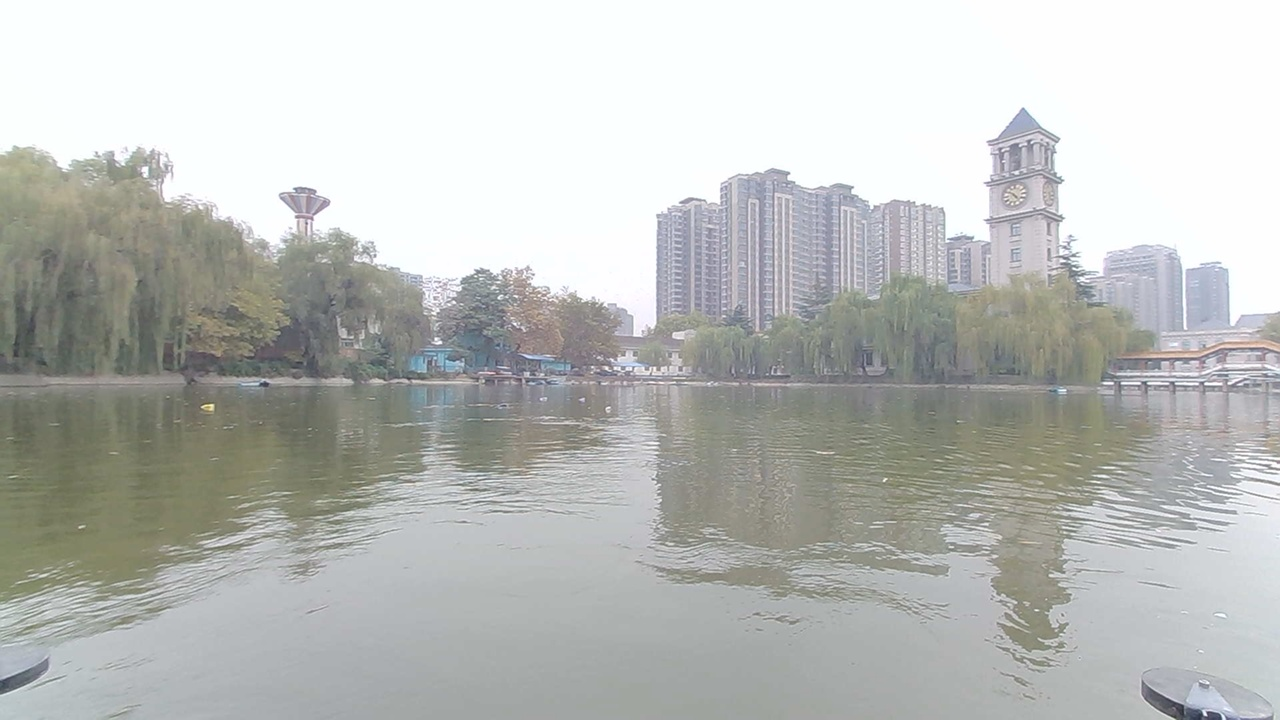bottle: (590, 396, 633, 420), (533, 386, 574, 408), (190, 392, 221, 415), (568, 386, 593, 402)
